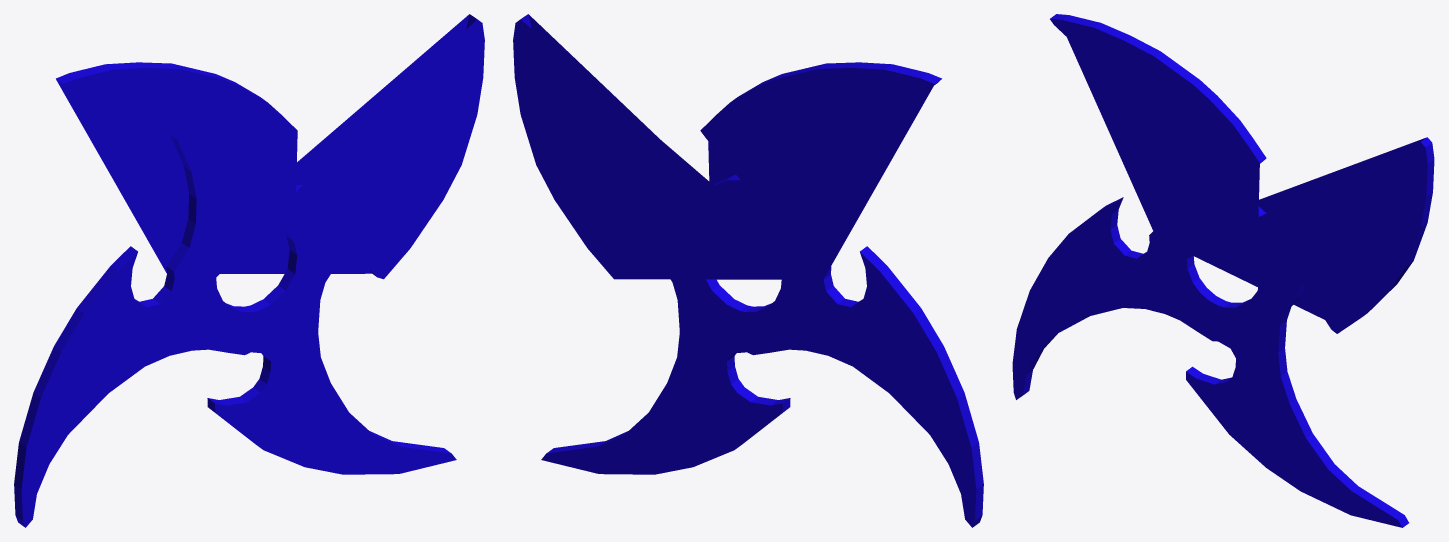
The model's file is shurikenstar.fbx.
3 views of the same model, side by side, from view 1: azimuth 30°, elevation 25°; view 2: azimuth 150°, elevation 25°; view 3: azimuth 330°, elevation 25° (orthographic). The views are drawn at different scales.
Visible parts, largest first — view 1: High-Quality-Naruto-Shuriken-Gold-Zinc-Alloy-Fuuton-Rotary-D; view 2: High-Quality-Naruto-Shuriken-Gold-Zinc-Alloy-Fuuton-Rotary-D; view 3: High-Quality-Naruto-Shuriken-Gold-Zinc-Alloy-Fuuton-Rotary-D.
Part boxes in pixels (box(x1,y1,x2,y2)): High-Quality-Naruto-Shuriken-Gold-Zinc-Alloy-Fuuton-Rotary-D: box(14, 14, 484, 527); High-Quality-Naruto-Shuriken-Gold-Zinc-Alloy-Fuuton-Rotary-D: box(513, 14, 983, 527); High-Quality-Naruto-Shuriken-Gold-Zinc-Alloy-Fuuton-Rotary-D: box(1012, 14, 1434, 527).
Size of the model in its own units: 0.3076 by 0.3008 by 0.00868.
